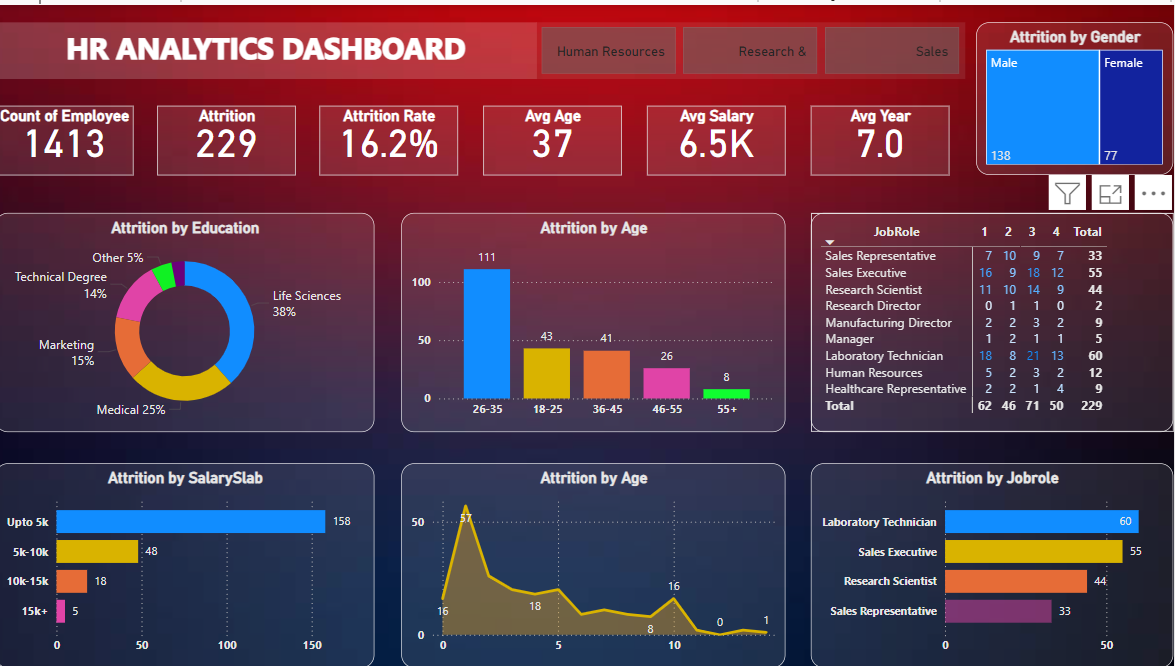

Layout of this report page (visuals, bound fields, positions):
{"tool":"powerbi","page":{"name":"Page 1","canvas":[1280,720],"ordinal":0},"visuals":[{"type":"card","title":"Count of Employee","fields":{"Values":["CountNonNull(HR_Analytics.EmpID)"]},"box":[0,108.8,150.5,75.3],"z":0},{"type":"card","title":"Avg Age","fields":{"Values":["Avg(HR_Analytics.Age)"]},"box":[530.3,108.8,150.5,75.3],"z":1000},{"type":"card","title":"Attrition Rate","fields":{"Values":["HR_Analytics.Attrition_rate"]},"box":[352.4,108.8,150.5,75.3],"z":2000},{"type":"card","title":"Attrition","fields":{"Values":["Sum(HR_Analytics.Attrition_count)"]},"box":[176.2,108.8,150.5,75.3],"z":3000},{"type":"card","title":"Avg Salary","fields":{"Values":["Avg(HR_Analytics.MonthlyIncome)"]},"box":[708.3,109.5,150.5,75.3],"z":4000},{"type":"card","title":"Avg Year","fields":{"Values":["Avg(HR_Analytics.YearsAtCompany)"]},"box":[886.2,108.8,150.5,75.3],"z":5000},{"type":"donutChart","title":"Attrition by Education","fields":{"Category":["HR_Analytics.EducationField"],"Y":["Sum(HR_Analytics.Attrition_count)"]},"box":[0,225.8,412.3,237.8],"z":6000},{"type":"columnChart","title":"Attrition by Age","fields":{"Y":["Sum(HR_Analytics.Attrition_count)"],"Category":["HR_Analytics.AgeGroup"]},"box":[441.4,225.8,417.4,237.8],"z":7000},{"type":"pivotTable","fields":{"Rows":["HR_Analytics.JobRole"],"Columns":["HR_Analytics.JobSatisfaction"],"Values":["Sum(HR_Analytics.Attrition_count)"]},"box":[886.2,225.8,393.5,237.8],"z":8000},{"type":"barChart","title":"Attrition by SalarySlab","fields":{"Category":["HR_Analytics.SalarySlab"],"Y":["Sum(HR_Analytics.Attrition_count)"]},"box":[0,497.8,412.3,222.4],"z":9000},{"type":"barChart","title":"Attrition by Jobrole","fields":{"Category":["HR_Analytics.JobRole"],"Y":["Sum(HR_Analytics.Attrition_count)"]},"box":[886.2,497.8,393.5,222.4],"z":10000},{"type":"areaChart","title":"Attrition by Age","fields":{"Category":["HR_Analytics.YearsAtCompany"],"Y":["Sum(HR_Analytics.Attrition_count)"]},"box":[441.4,497.8,417.4,222.4],"z":11000},{"type":"treemap","title":"Attrition by Gender","fields":{"Values":["Sum(HR_Analytics.Attrition_count)"],"Group":["HR_Analytics.Gender"]},"box":[1065.8,18.8,213.8,165.9],"z":11001},{"type":"advancedSlicerVisual","fields":{"Values":["HR_Analytics.Department"]},"box":[588.5,18.8,465.3,61.6],"z":11002},{"type":"textbox","box":[0,18.8,588.5,61.6],"z":11003}]}

Visuals, with their boxes in screenshot pixels (x1, y1, x2, y2), scaled from the page's 1280x720 canvas onto the 1175x666 screenshot:
"Count of Employee" card: 0:101:138:170
"Avg Age" card: 487:101:625:170
"Attrition Rate" card: 323:101:462:170
"Attrition" card: 162:101:300:170
"Avg Salary" card: 650:101:788:171
"Avg Year" card: 814:101:952:170
"Attrition by Education" donutChart: 0:209:378:429
"Attrition by Age" columnChart: 405:209:788:429
pivotTable - HR_Analytics.JobRole x HR_Analytics.JobSatisfaction: 814:209:1174:429
"Attrition by SalarySlab" barChart: 0:460:378:665
"Attrition by Jobrole" barChart: 814:460:1174:665
"Attrition by Age" areaChart: 405:460:788:665
"Attrition by Gender" treemap: 978:17:1174:171
advancedSlicerVisual - HR_Analytics.Department: 540:17:967:74
textbox: 0:17:540:74
